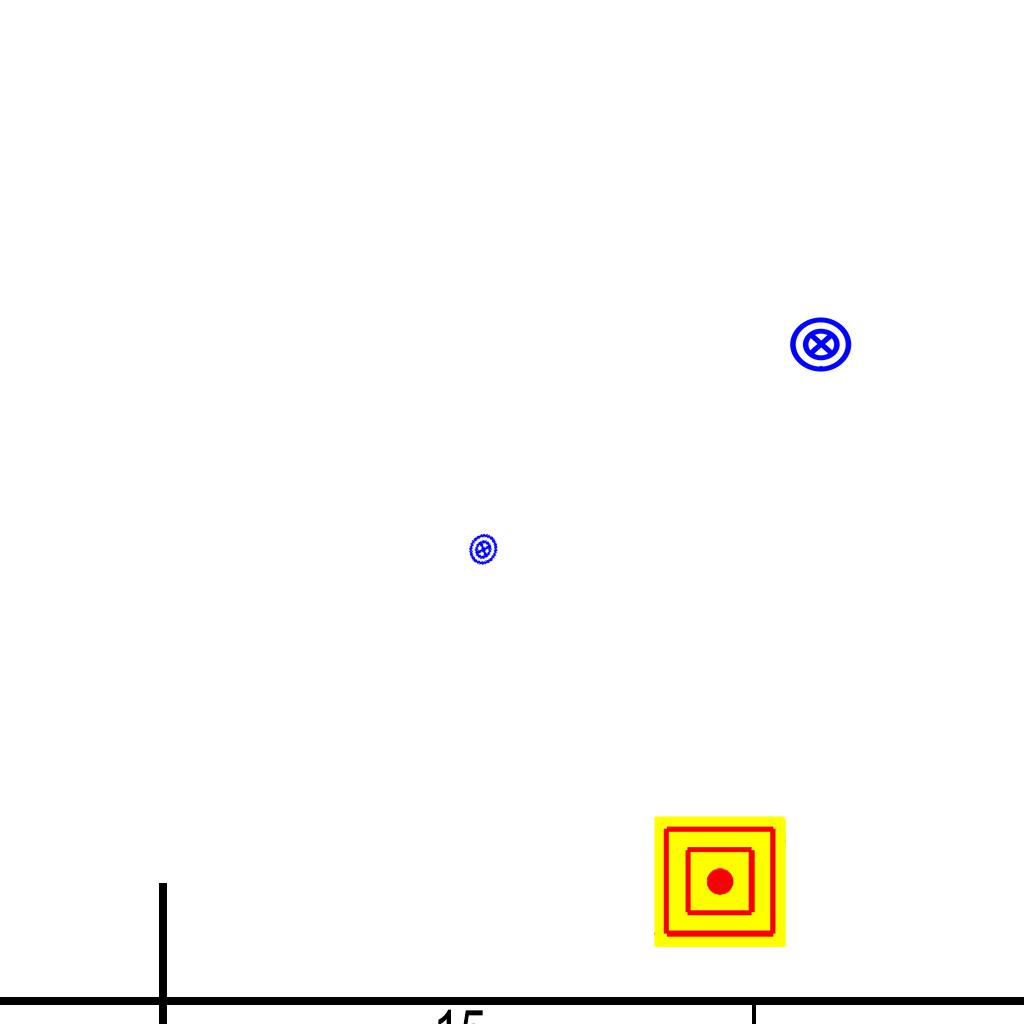NAM-Nichtautomatischer_Melder: (654, 816, 786, 948)
Taster_beleuchtet: (788, 311, 854, 377), (462, 528, 505, 571)
